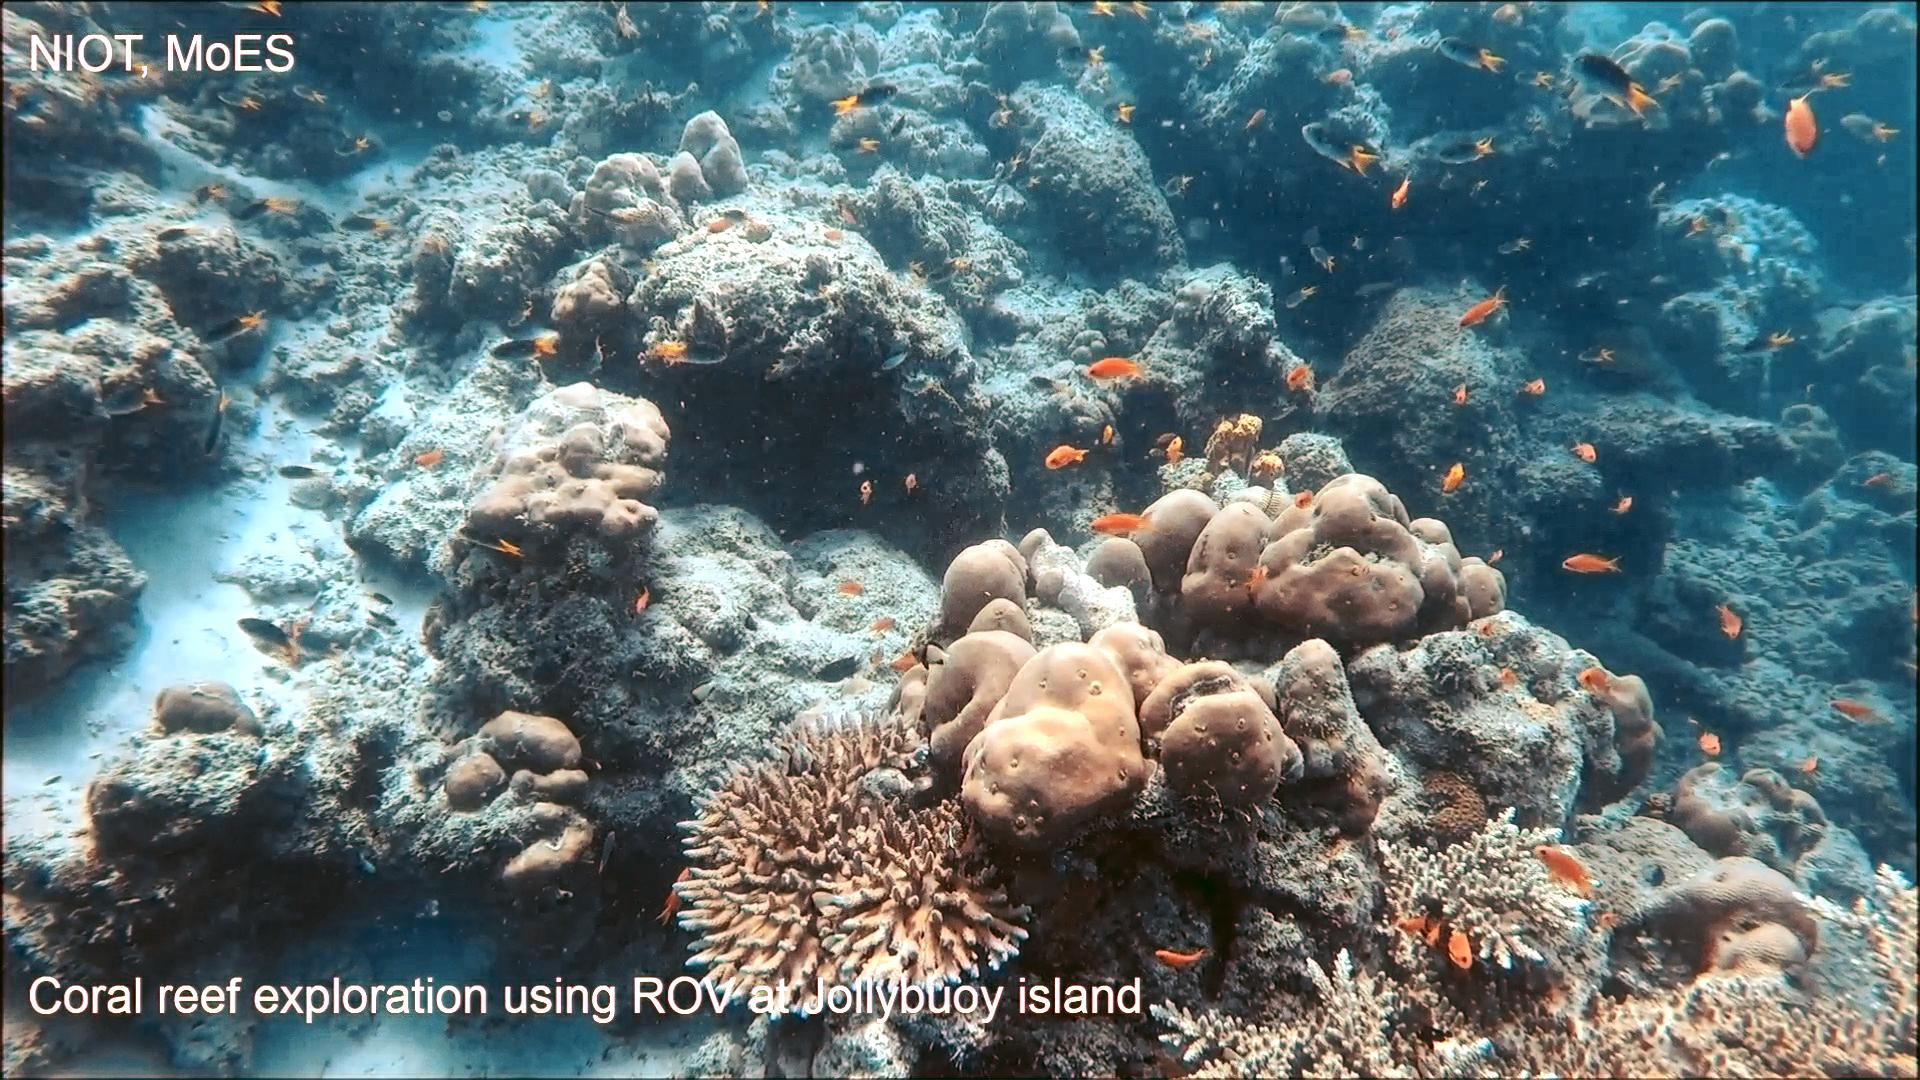Porites-Porites pukoensis: (887, 526, 1292, 860), (1124, 464, 1515, 654)
